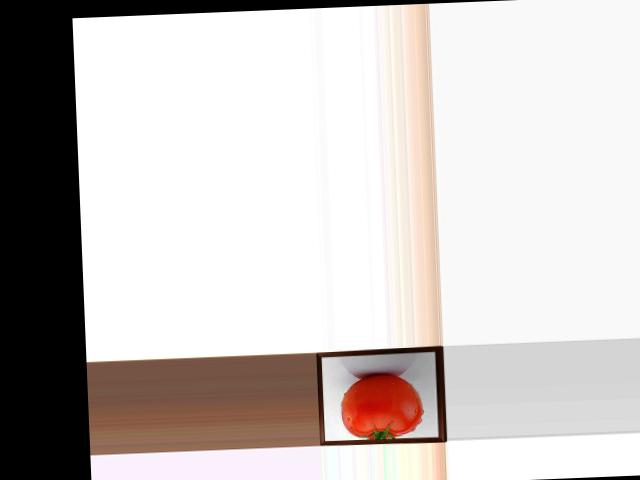tomato: (340, 372, 424, 441)
